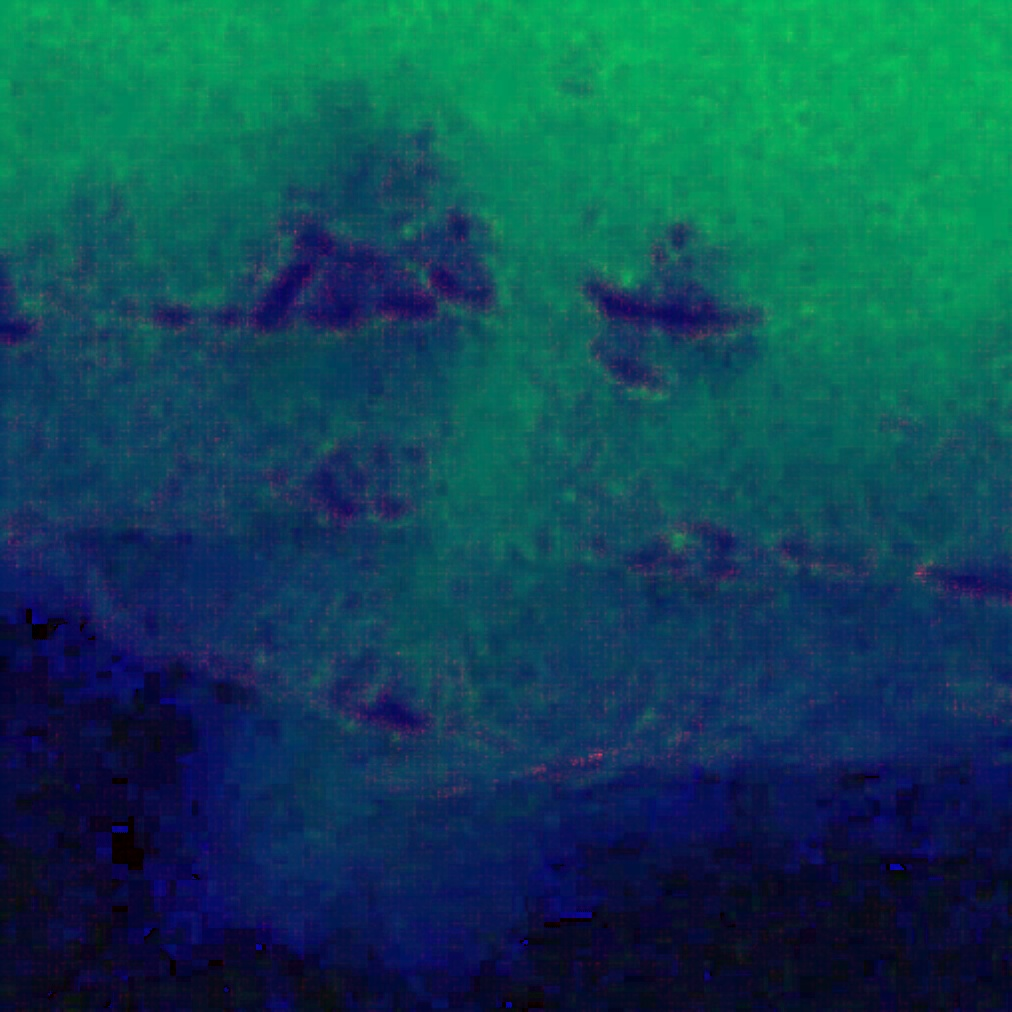rip_current: (303, 235, 629, 742)
